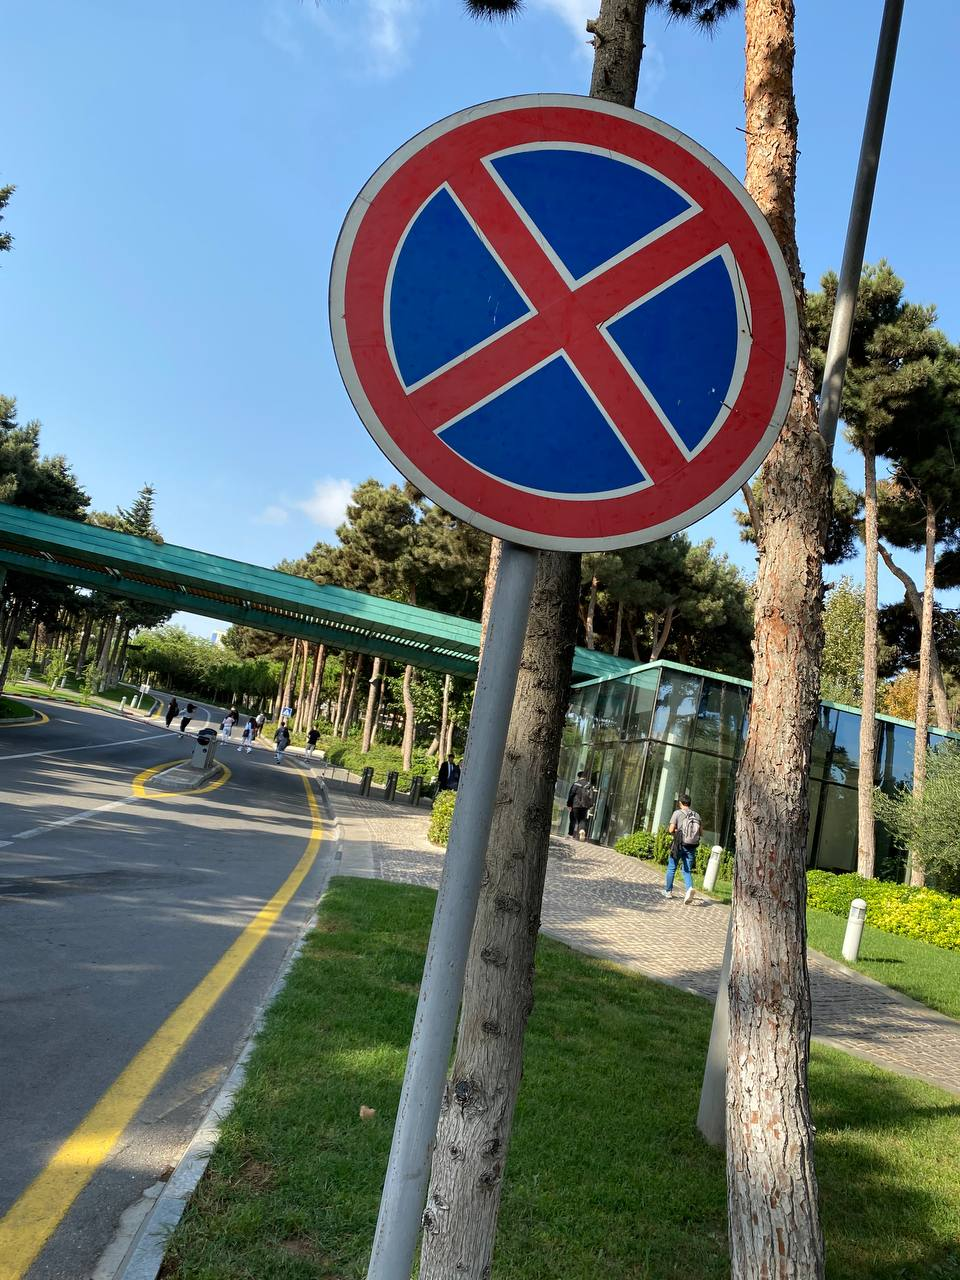No Parking: (327, 92, 800, 554)
